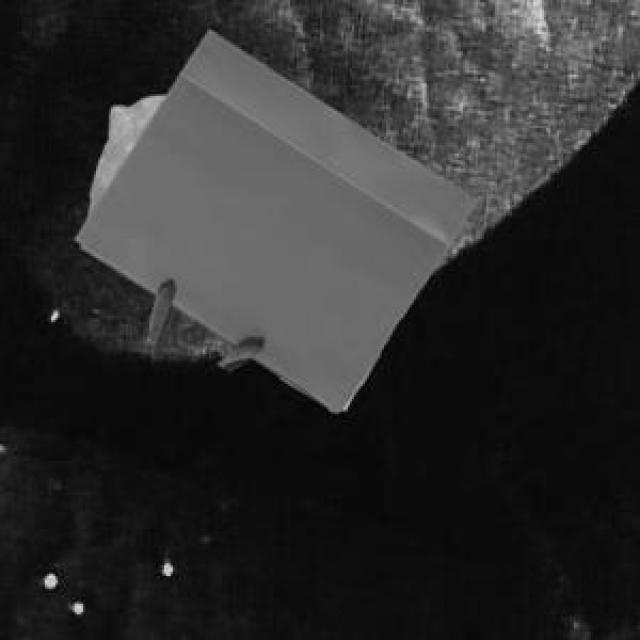paper: (73, 26, 474, 408)
